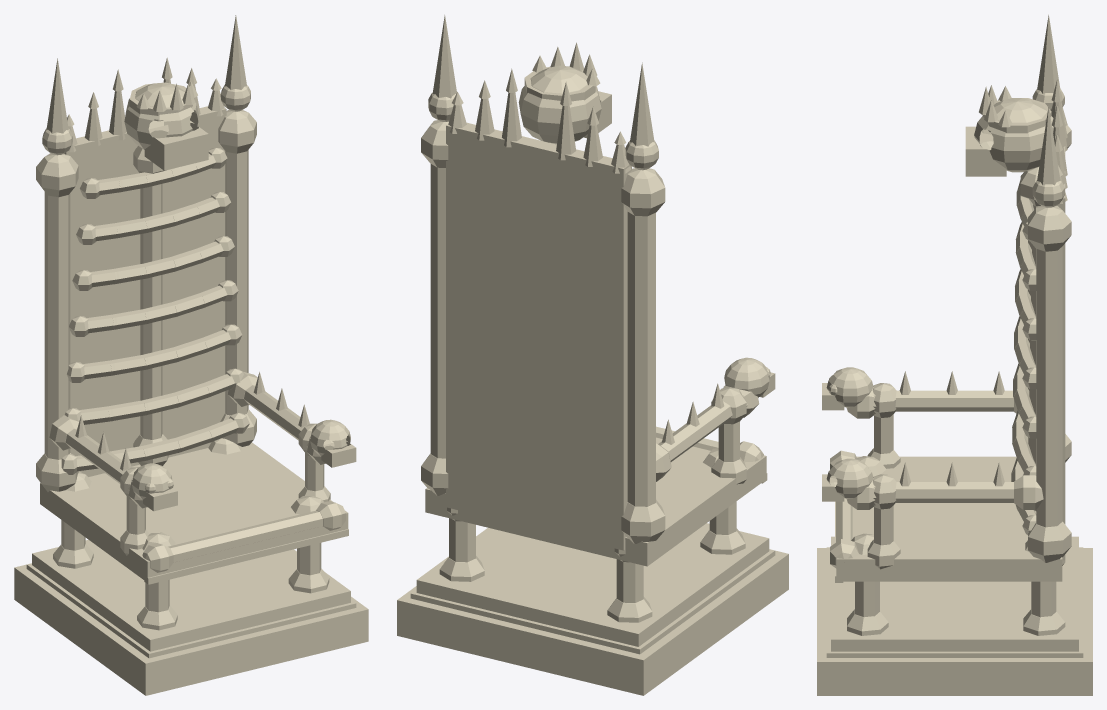
The model's file is aldrich_count_throne.obj.
3 renders of one model, left to right at view 1: azimuth 30°, elevation 25°; view 2: azimuth 150°, elevation 25°; view 3: azimuth 270°, elevation 25°, orthographic. The views are drawn at different scales.
Parts seen in each view (by area): view 1: aldrich_count_throne; view 2: aldrich_count_throne; view 3: aldrich_count_throne.
Part boxes in pixels (box(x1,y1,x2,y2)): aldrich_count_throne: box(14, 15, 368, 695); aldrich_count_throne: box(397, 15, 788, 695); aldrich_count_throne: box(817, 14, 1092, 695).
Size of the model in its own units: 0.94 by 2.22 by 0.96.
